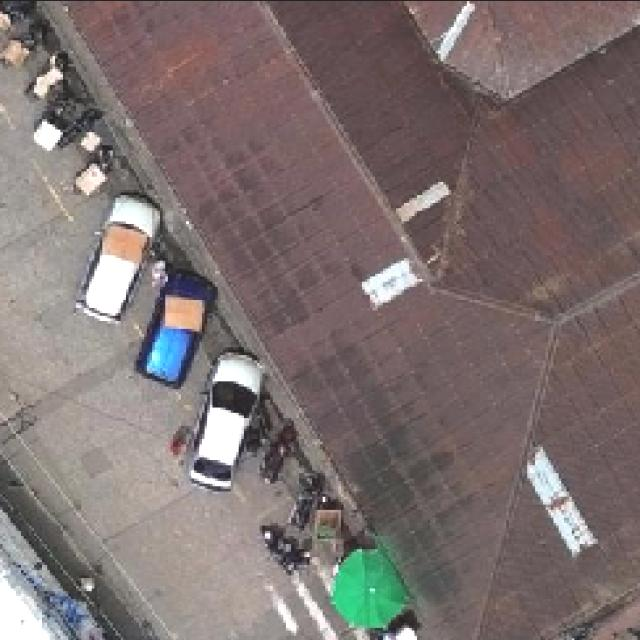vendedor_ambulante: (323, 544, 409, 632)
